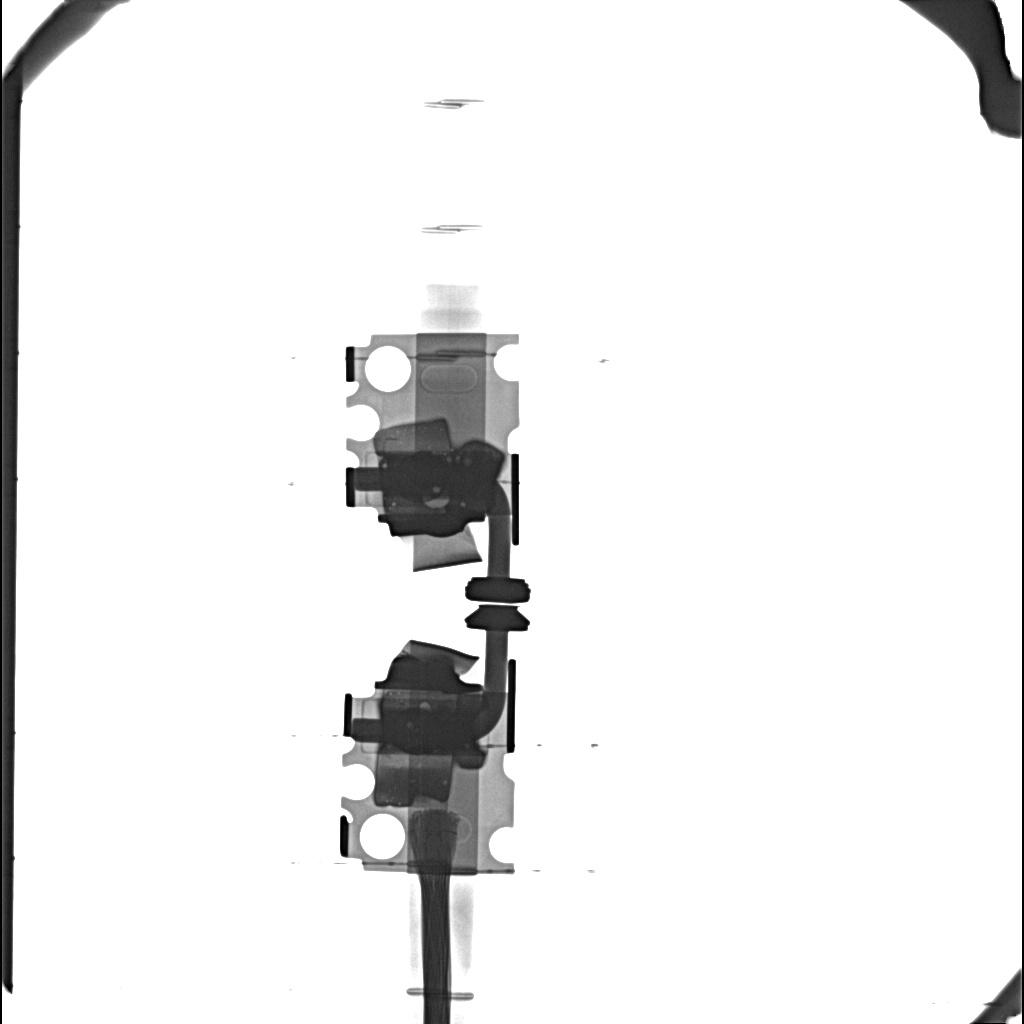PX: (374, 755, 454, 808), (374, 419, 452, 456)
QP: (426, 499, 449, 509), (418, 700, 431, 711)
SX: (381, 453, 500, 498), (384, 712, 472, 754)
